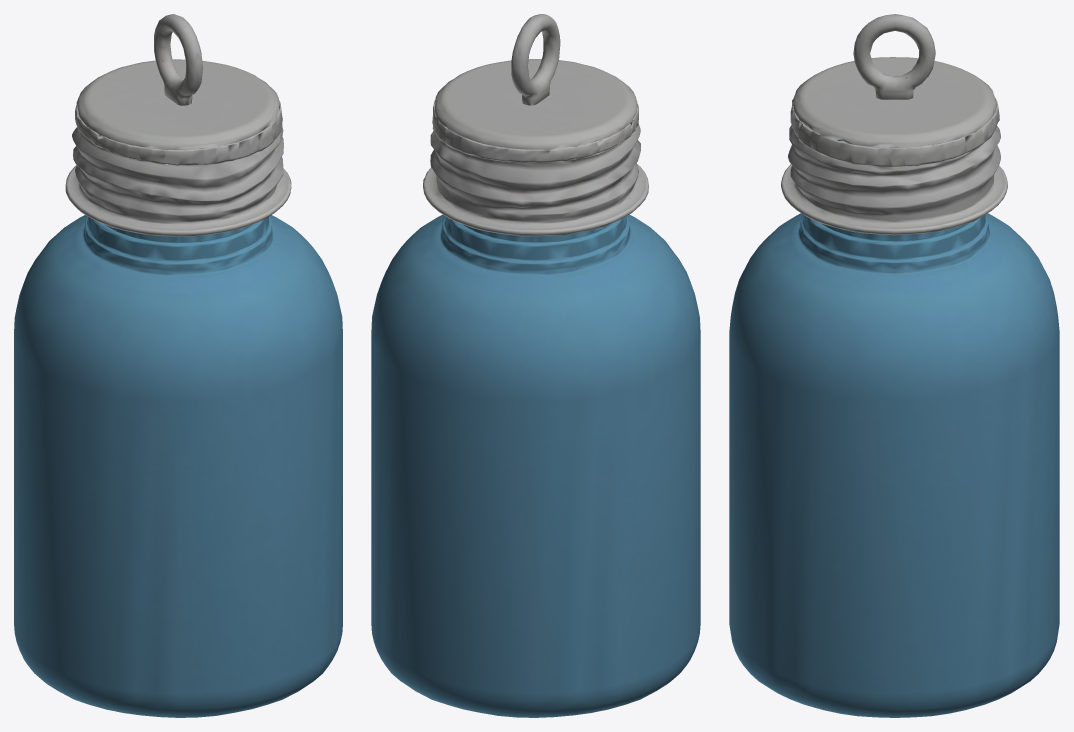
File: bottle.glb
3 views of the same model, side by side, from view 1: azimuth 30°, elevation 25°; view 2: azimuth 150°, elevation 25°; view 3: azimuth 270°, elevation 25° (orthographic).
Parts seen in each view (by area): view 1: tripo_node_8fd609e7-1a8c-47a0-807f-94fe3368a6bd; view 2: tripo_node_8fd609e7-1a8c-47a0-807f-94fe3368a6bd; view 3: tripo_node_8fd609e7-1a8c-47a0-807f-94fe3368a6bd.
Part boxes in pixels (x1=…): tripo_node_8fd609e7-1a8c-47a0-807f-94fe3368a6bd: x1=14, y1=14, x2=342, y2=717; tripo_node_8fd609e7-1a8c-47a0-807f-94fe3368a6bd: x1=371, y1=14, x2=700, y2=717; tripo_node_8fd609e7-1a8c-47a0-807f-94fe3368a6bd: x1=729, y1=14, x2=1059, y2=717.
Bounding box in the file's own units: 0.0557 × 0.12 × 0.0557.
1 material, 1 textured.
